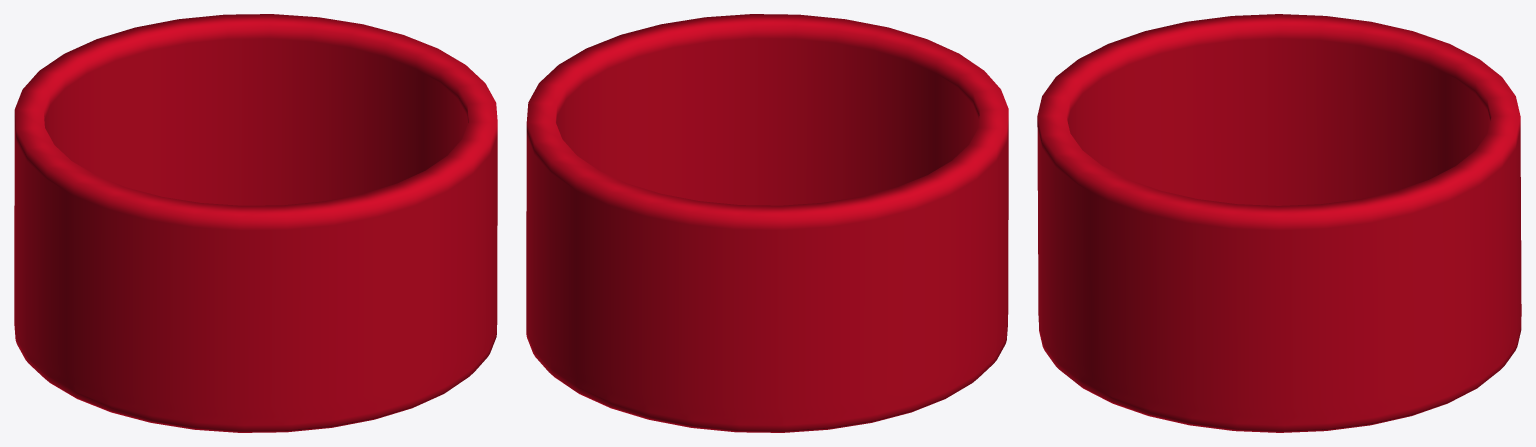
The model's file is BOTTLE CAP.fbx.
3 views of the same model, side by side, from view 1: azimuth 30°, elevation 25°; view 2: azimuth 150°, elevation 25°; view 3: azimuth 270°, elevation 25° (orthographic).
Visible parts, largest first — view 1: Cube; view 2: Cube; view 3: Cube.
Boxes of the visible parts, x1=… form: Cube: x1=14, y1=14, x2=497, y2=432; Cube: x1=526, y1=14, x2=1008, y2=432; Cube: x1=1037, y1=14, x2=1521, y2=432.
Bounding box in the file's own units: 201 × 101 × 201.
